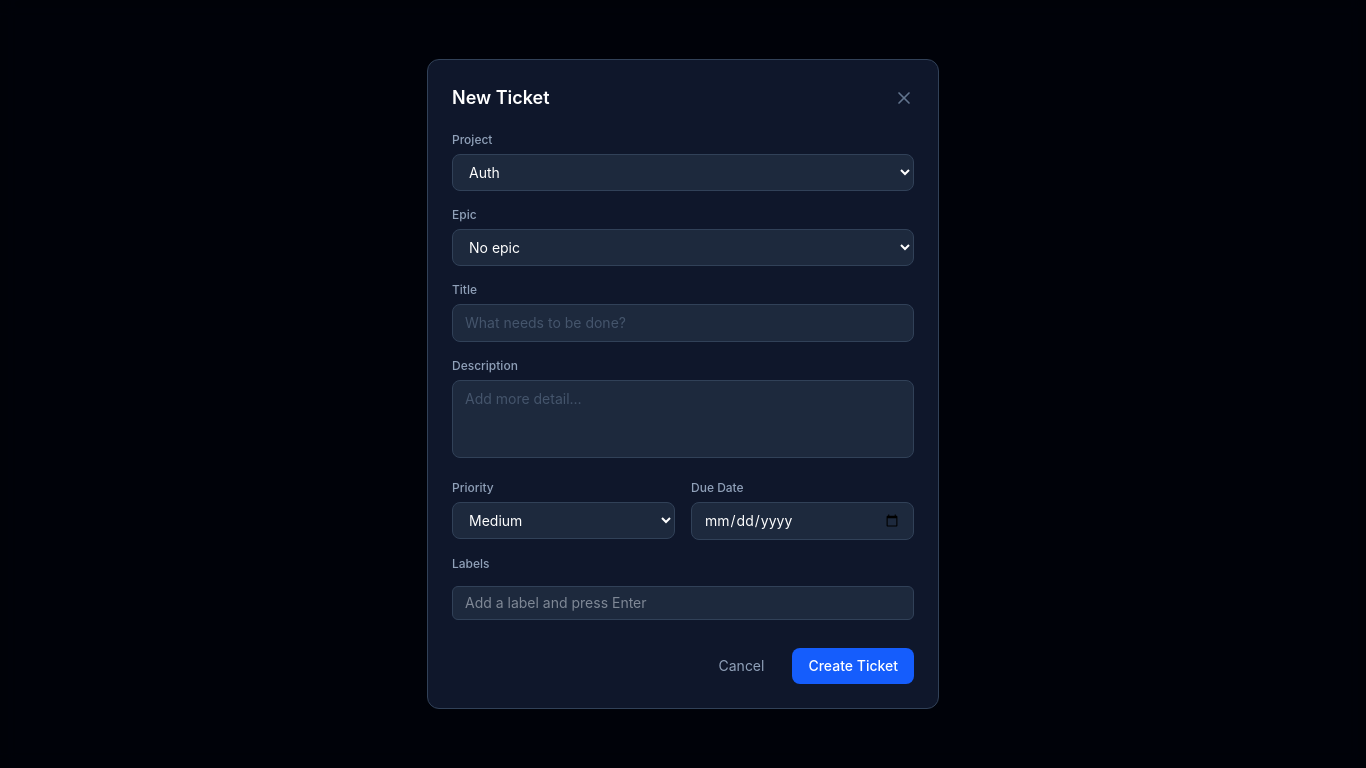
Test: CreateTicketModal: a failed create › shows an error and keeps the form filled in, rather than losing it
Step 1. Type "Ship it" into the field labelled "Title" → [683, 323], box [452,304,914,342]
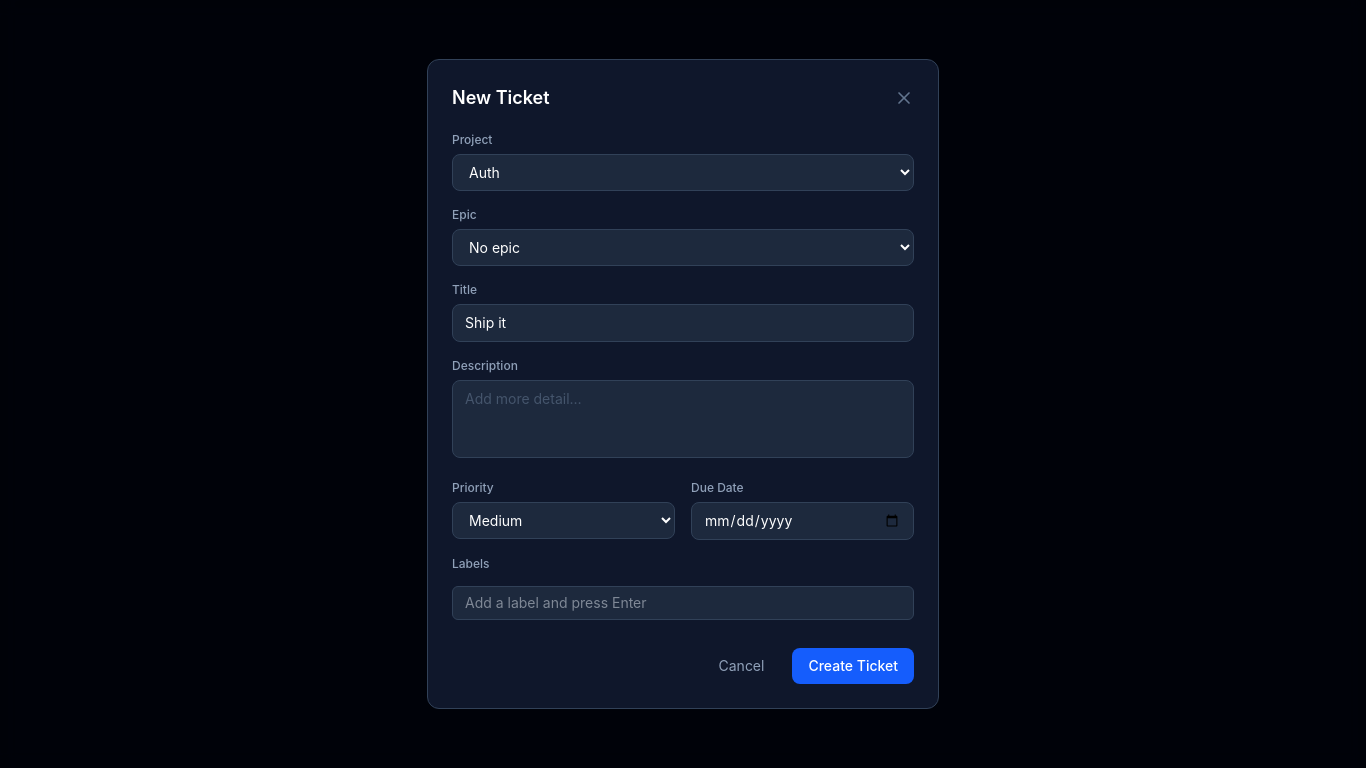
Step 2. Click the button "Create Ticket" → [853, 666], box [792,648,914,684]
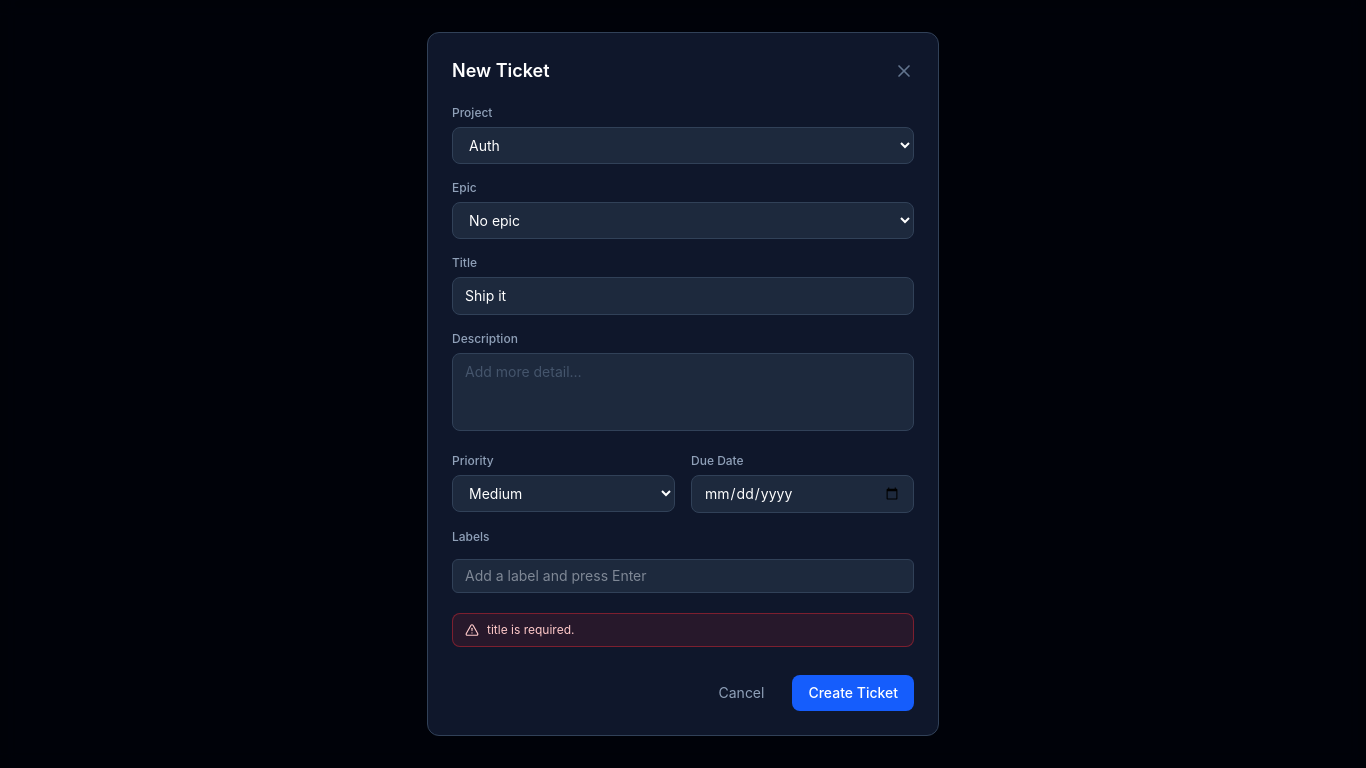
Expected: the message with test id "create-ticket-error" shows "title is required", [487,622,574,637]
